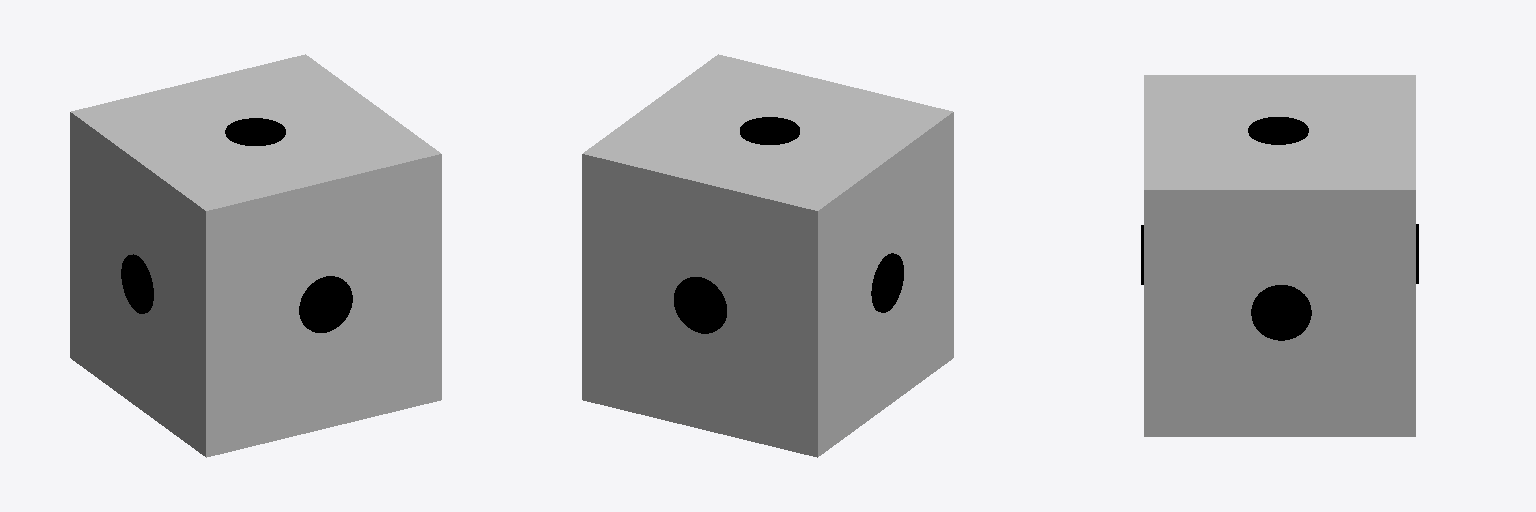
File: dice_1.obj
3 views of the same model, side by side, from view 1: azimuth 30°, elevation 25°; view 2: azimuth 150°, elevation 25°; view 3: azimuth 270°, elevation 25° (orthographic).
Visible parts, largest first — view 1: Shape_IndexedFaceSet.001, Shape_IndexedFaceSet.002, Shape_IndexedFaceSet.004, Shape_IndexedFaceSet.005; view 2: Shape_IndexedFaceSet.001, Shape_IndexedFaceSet, Shape_IndexedFaceSet.004, Shape_IndexedFaceSet.005; view 3: Shape_IndexedFaceSet.001, Shape_IndexedFaceSet.003, Shape_IndexedFaceSet.005.
Boxes of the visible parts, <box> form: Shape_IndexedFaceSet.001: <box>70,54,441,457</box>; Shape_IndexedFaceSet.002: <box>299,276,352,332</box>; Shape_IndexedFaceSet.004: <box>121,254,153,313</box>; Shape_IndexedFaceSet.005: <box>225,118,285,145</box>; Shape_IndexedFaceSet.001: <box>582,54,953,457</box>; Shape_IndexedFaceSet: <box>674,277,726,333</box>; Shape_IndexedFaceSet.004: <box>871,253,903,312</box>; Shape_IndexedFaceSet.005: <box>740,117,799,144</box>; Shape_IndexedFaceSet.001: <box>1144,75,1415,436</box>; Shape_IndexedFaceSet.003: <box>1251,285,1311,340</box>; Shape_IndexedFaceSet.005: <box>1248,117,1308,144</box>.
Bounding box in the file's own units: 0.2337 × 0.2337 × 0.2337.